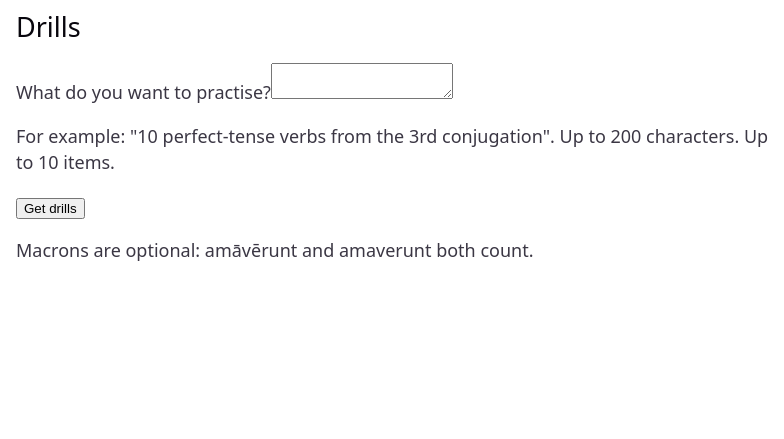
Test case: a right answer shows 'Correct' and asks for no feedback
The width and height of the screenshot is (784, 439).
Type "rego perfect, rex plural" into the text box labelled "What do you want to practise?".
click(362, 81); type("rego perfect, rex plural")  # box x1=271 y1=63 x2=453 y2=99
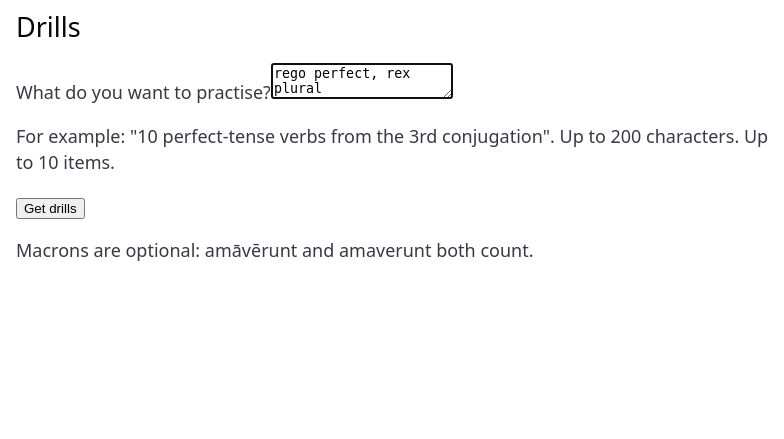
Click the button "Get drills".
click(50, 209)  # box x1=16 y1=198 x2=85 y2=219
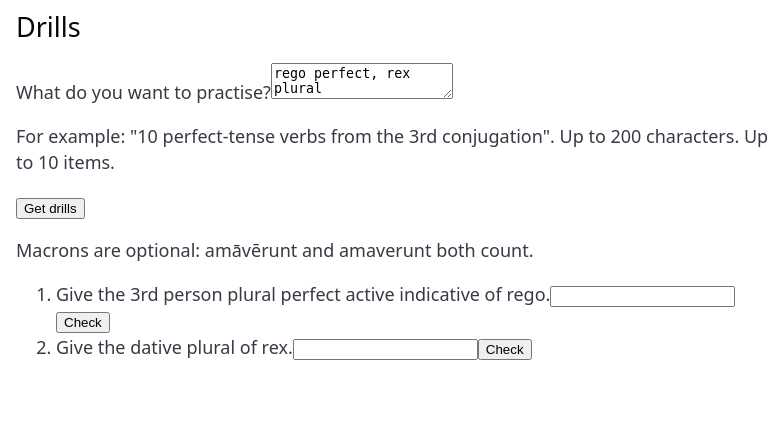
Type "rexerunt" into the field labelled "Give the 3rd person plural perfect active indicative of rego.".
click(643, 297); type("rexerunt")  # box x1=550 y1=286 x2=735 y2=307
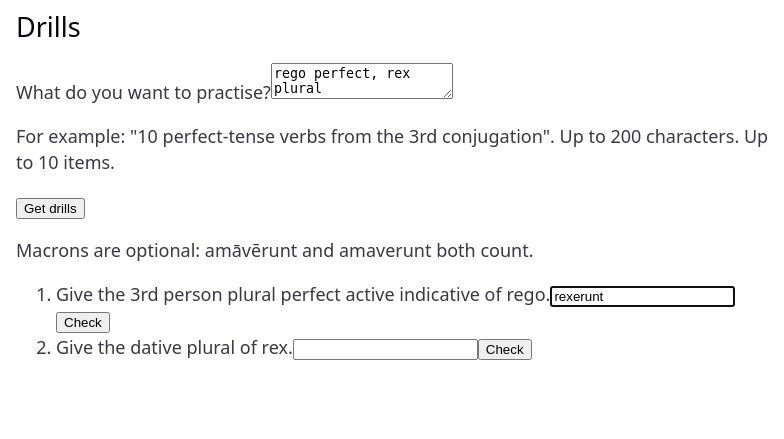
Click the 1st button "Check".
click(83, 323)  # box x1=56 y1=312 x2=110 y2=334
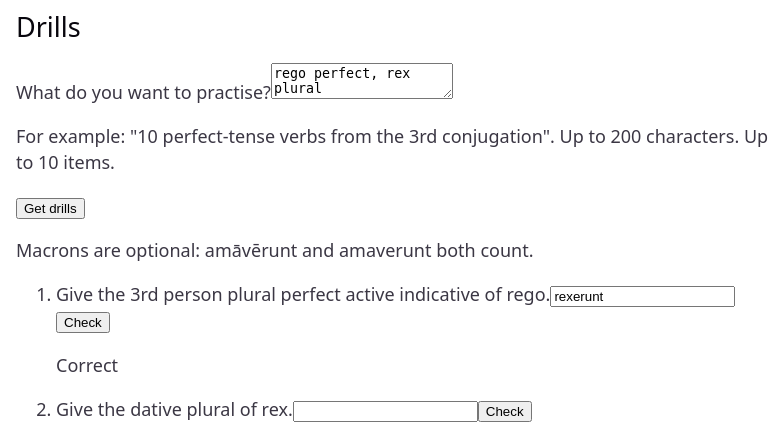
Expected: the text "Correct" is shown, x1=56 y1=353 x2=118 y2=377
